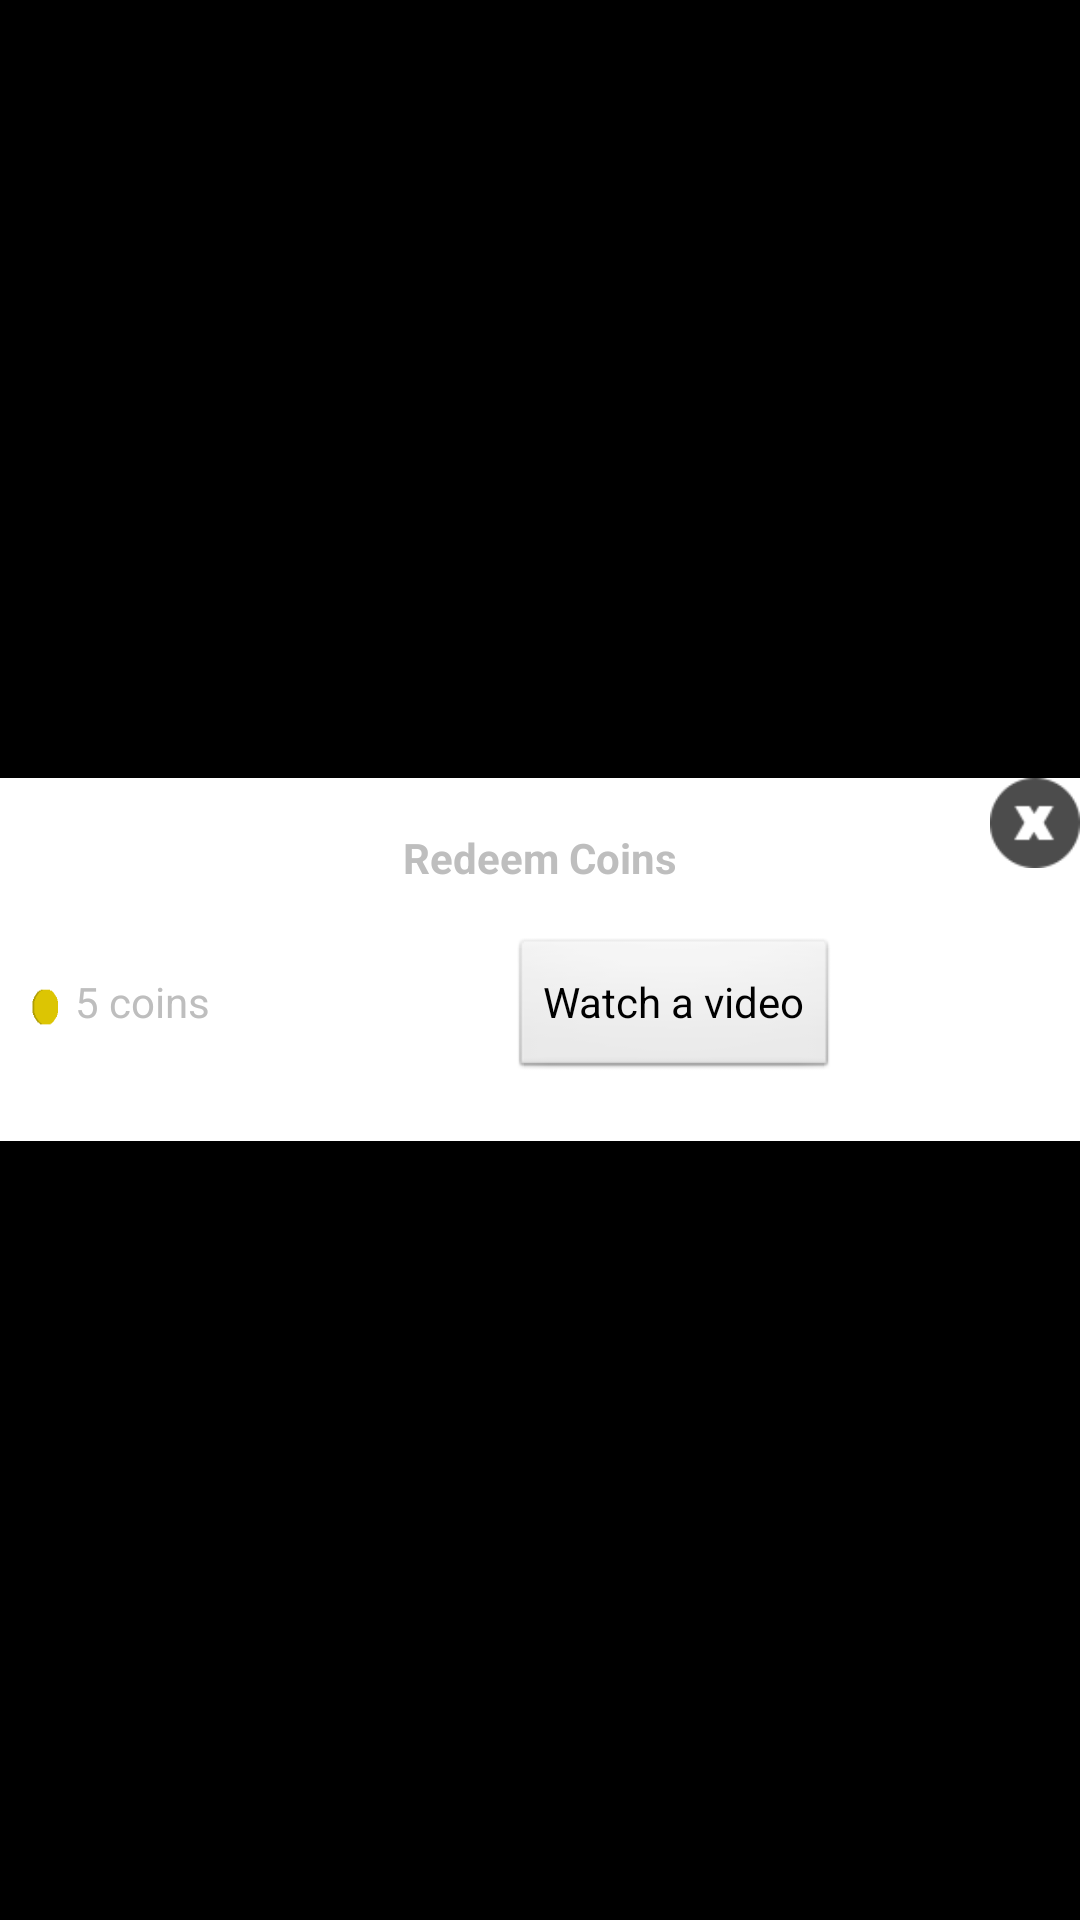

Named icons in this screenshot (1080 x 1920) and their bounding boxes, (x1, y1, x2, y2):
exitbtn: (990, 778, 1080, 868)
